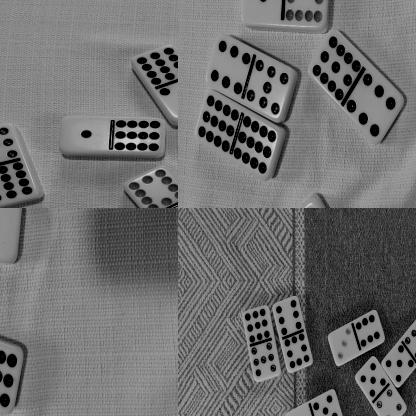pip-1: (60, 116, 113, 154), (0, 208, 23, 258), (241, 0, 283, 24), (285, 404, 314, 416)
pip-10: (123, 165, 178, 208), (284, 0, 329, 27)
pip-11: (310, 28, 361, 101)
pip-12: (234, 115, 276, 180), (196, 93, 240, 150), (112, 117, 165, 154), (132, 44, 178, 85), (0, 341, 24, 412), (0, 161, 37, 205)
pip-2: (160, 79, 178, 118)
pip-3: (328, 324, 356, 366)
pip-4: (377, 387, 407, 416)
pip-5: (356, 354, 386, 398), (382, 345, 414, 385), (314, 388, 343, 416)
pip-6: (348, 71, 404, 145), (206, 32, 251, 93), (355, 310, 386, 348), (274, 295, 302, 335)
pip-7: (248, 59, 294, 116), (251, 341, 281, 381), (0, 122, 19, 163), (404, 317, 416, 358)
pip-8: (285, 332, 313, 371)
pip-9: (242, 304, 272, 342)
